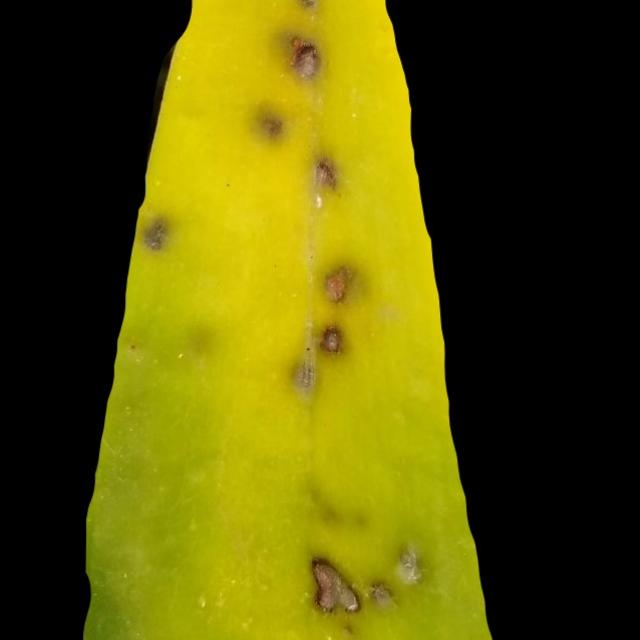mite: (131, 20, 362, 390), (305, 541, 428, 617), (316, 261, 356, 357), (312, 318, 350, 361), (322, 263, 355, 304), (395, 545, 424, 586), (366, 578, 396, 610), (313, 156, 337, 191), (318, 323, 344, 355), (257, 110, 284, 139), (298, 0, 317, 10)
spots: (80, 1, 495, 638)
sunburn: (306, 554, 362, 619)
